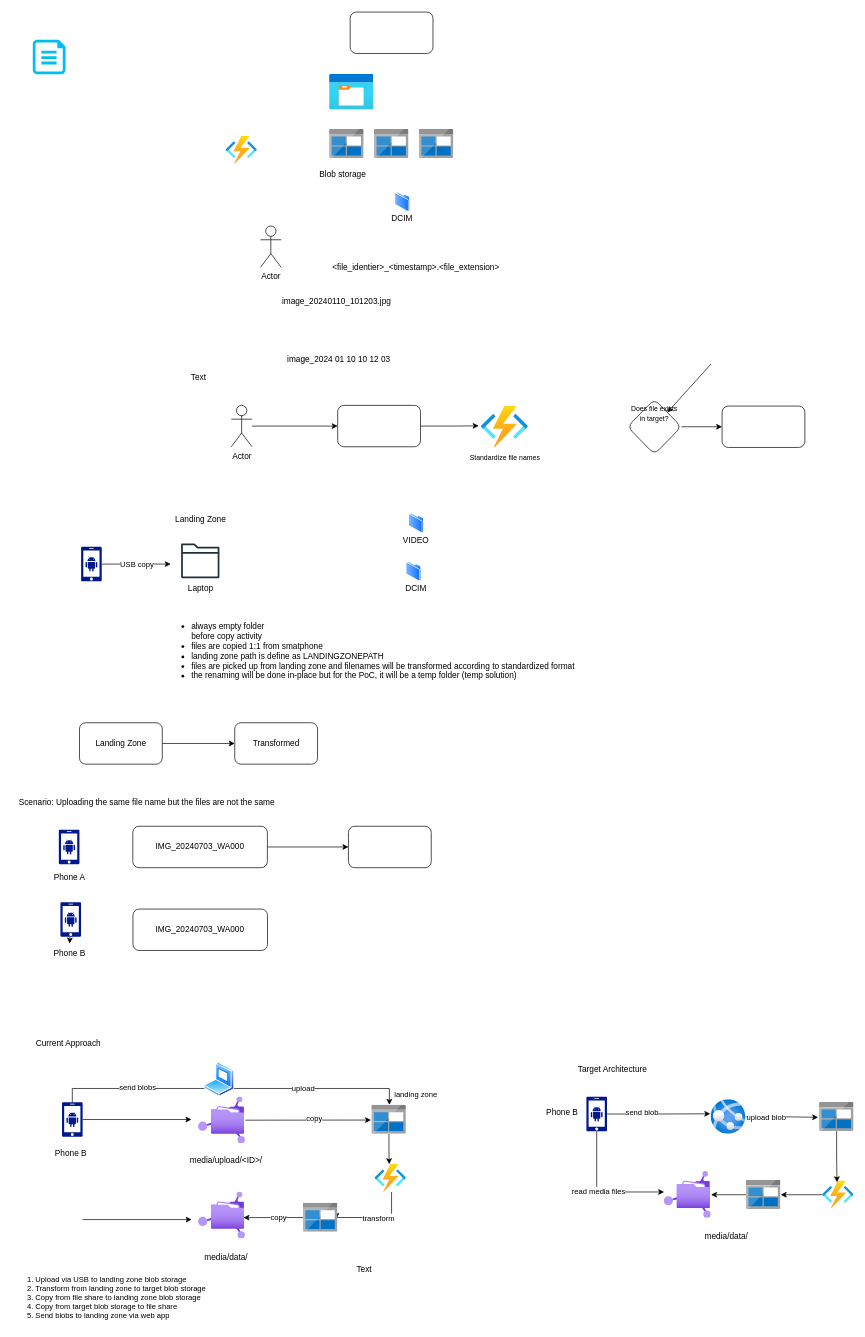
The diagram is 865 pixels wide and 1337 high, and some of its shapes have lost their labels. Each missing label, with the centre of its shape:
"Azure" goes at (391,32).
"Copy file to target folder" goes at (763,426).
"Send batch of files to raw folder" goes at (378,426).
"Timestamp + Device + Index" goes at (389,847).
